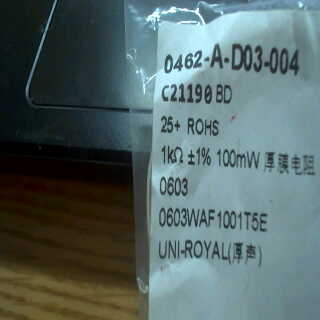1kR: (160, 141, 186, 168)
